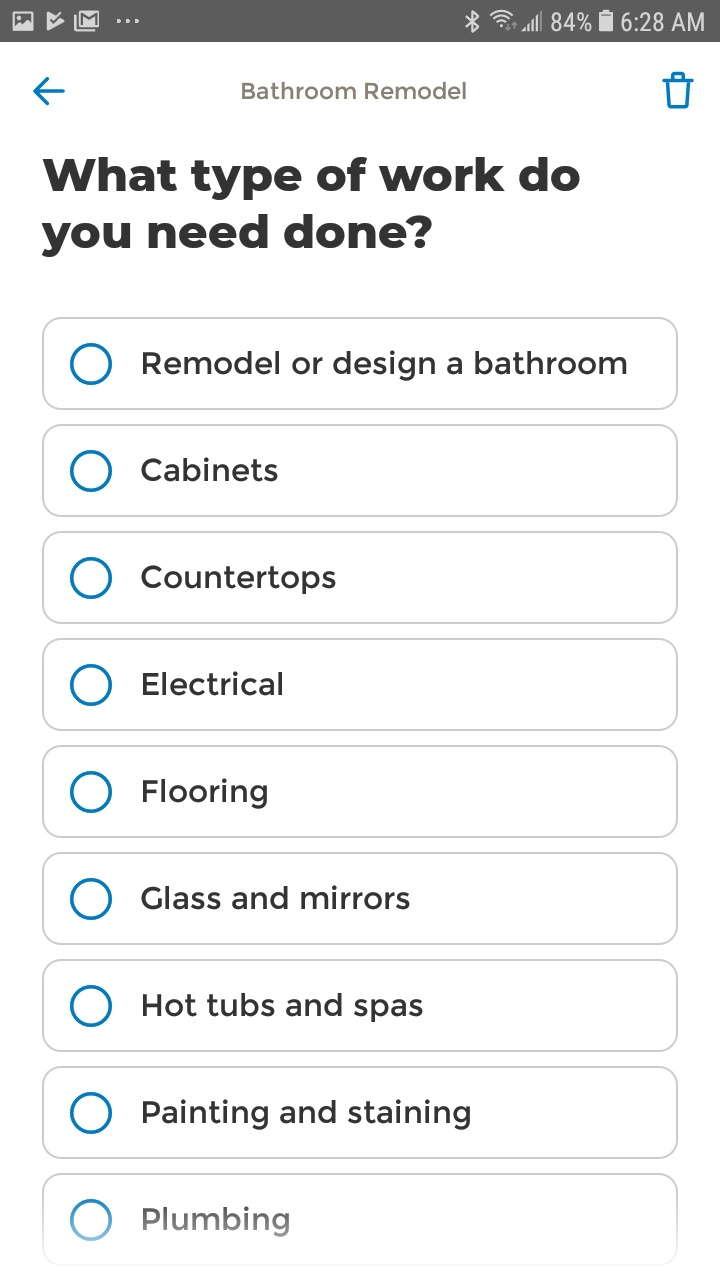CheckedTextView: (71, 342, 627, 386), (70, 1091, 471, 1135), (70, 984, 424, 1028), (70, 877, 411, 921), (71, 556, 337, 600), (70, 1198, 290, 1242), (70, 663, 283, 707), (70, 449, 279, 493), (71, 770, 269, 814)
Icon: (33, 77, 67, 107)
Image: (662, 72, 695, 111)
Text: (42, 157, 581, 259), (143, 351, 627, 382), (142, 1098, 471, 1131), (143, 992, 424, 1023), (141, 885, 411, 911), (141, 564, 337, 595), (143, 1205, 290, 1238), (242, 81, 468, 101), (143, 778, 269, 810), (141, 456, 279, 483), (143, 671, 283, 697)
UpperTaskBar: (1, 1, 720, 43)
